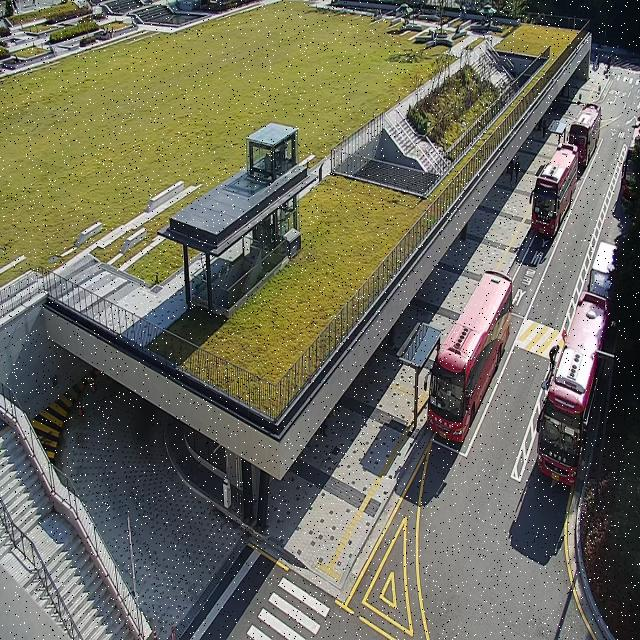queue: (415, 332, 442, 429)
